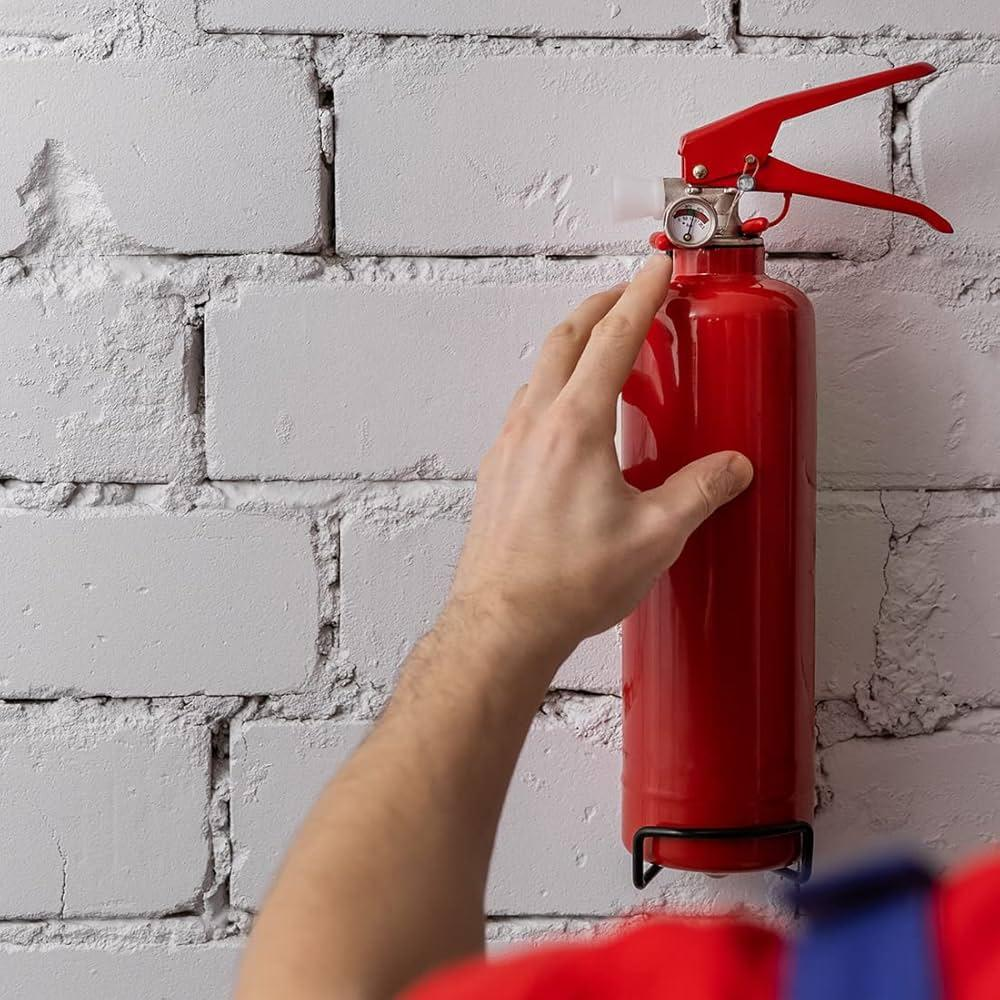wall-mounted: (502, 37, 967, 888)
